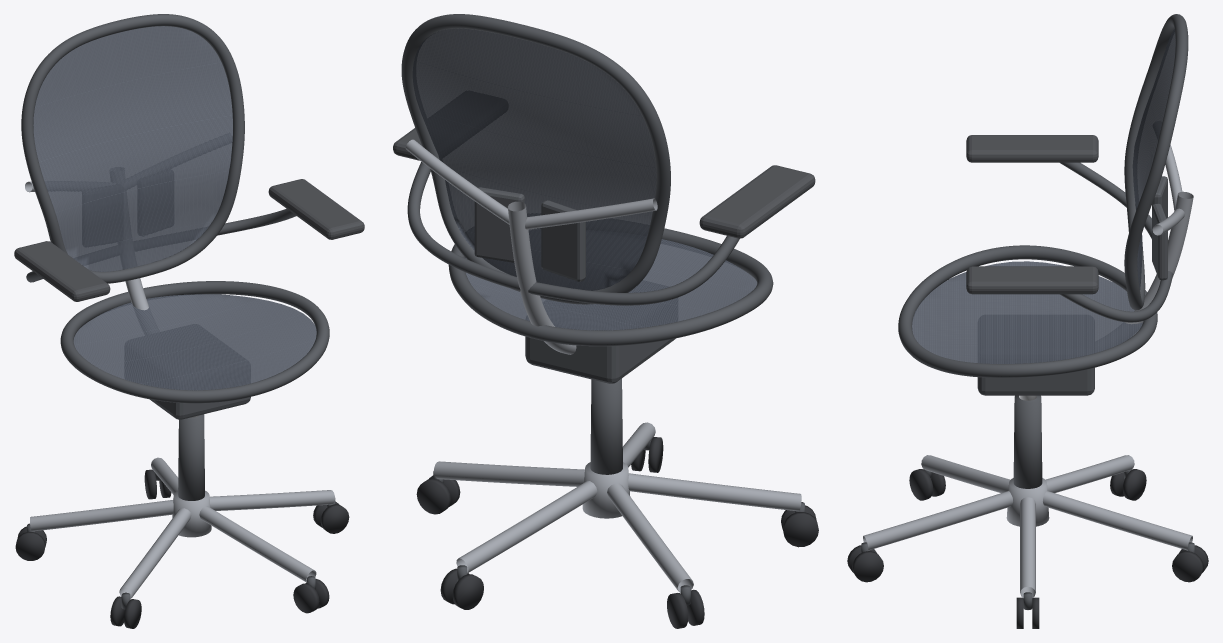
Rendered from aeron_chair.glb.
3 views of the same model, side by side, from view 1: azimuth 30°, elevation 25°; view 2: azimuth 150°, elevation 25°; view 3: azimuth 270°, elevation 25° (orthographic). The views are drawn at different scales.
Visible parts, largest first — view 1: Back_Pellicle, Seat_Pellicle, Back_OuterFrame, Seat_OuterFrame, Arm_Pad_-1, Arm_Pad_1, Gas_CylinderOuter, Base_Spoke_4, Base_Spoke_2, Base_Spoke_1, Base_Spoke_3, Tilt_Mechanism (+7 smaller); view 2: Back_Pellicle, Back_OuterFrame, Seat_Pellicle, Seat_OuterFrame, Arm_Pad_-1, Tilt_Mechanism, Base_Spoke_3, Arm_Stalk_-1, Gas_CylinderOuter, Base_Spoke_0, Base_Spoke_1, PostureFit_Pad_-1 (+12 smaller); view 3: Seat_Pellicle, Seat_OuterFrame, Back_OuterFrame, Arm_Pad_1, Arm_Pad_-1, Back_Pellicle, Gas_CylinderOuter, Base_Spoke_0, Base_Spoke_2, Tilt_Mechanism, Base_Spoke_1, Arm_Stalk_1 (+11 smaller).
Boxes of the visible parts, x1,y1,x2,y2 form: Back_Pellicle: [33, 26, 232, 271]; Seat_Pellicle: [73, 294, 316, 390]; Back_OuterFrame: [21, 14, 244, 283]; Seat_OuterFrame: [60, 281, 329, 403]; Arm_Pad_-1: [14, 241, 110, 301]; Arm_Pad_1: [268, 179, 364, 239]; Gas_CylinderOuter: [178, 414, 204, 500]; Base_Spoke_4: [30, 500, 173, 531]; Base_Spoke_2: [199, 506, 316, 582]; Base_Spoke_1: [209, 490, 334, 510]; Base_Spoke_3: [119, 508, 191, 598]; Tilt_Mechanism: [150, 397, 250, 419]; Back_Pellicle: [412, 28, 656, 290]; Back_OuterFrame: [401, 14, 670, 304]; Seat_Pellicle: [465, 239, 757, 330]; Seat_OuterFrame: [448, 228, 773, 346]; Arm_Pad_-1: [699, 165, 815, 238]; Tilt_Mechanism: [525, 336, 675, 383]; Base_Spoke_3: [628, 473, 801, 511]; Arm_Stalk_-1: [528, 236, 739, 305]; Gas_CylinderOuter: [590, 378, 622, 474]; Base_Spoke_0: [456, 480, 597, 573]; Base_Spoke_1: [434, 461, 584, 486]; PostureFit_Pad_-1: [541, 200, 585, 281]; Seat_Pellicle: [912, 261, 1142, 363]; Seat_OuterFrame: [898, 245, 1157, 377]; Back_OuterFrame: [1124, 14, 1188, 310]; Arm_Pad_1: [966, 266, 1098, 294]; Arm_Pad_-1: [966, 135, 1098, 162]; Back_Pellicle: [1132, 29, 1175, 289]; Gas_CylinderOuter: [1013, 395, 1042, 488]; Base_Spoke_0: [1043, 491, 1192, 550]; Base_Spoke_2: [863, 491, 1012, 550]; Tilt_Mechanism: [977, 367, 1094, 395]; Base_Spoke_1: [1020, 497, 1035, 597]; Arm_Stalk_1: [1060, 271, 1172, 322].
Bounding box in the file's own units: 0.652 × 1.02 × 0.6458.
Materials: 6 (1 with a texture image).
